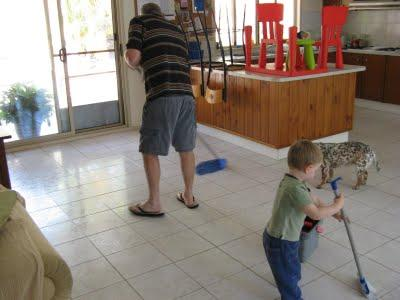person: (125, 4, 202, 219)
